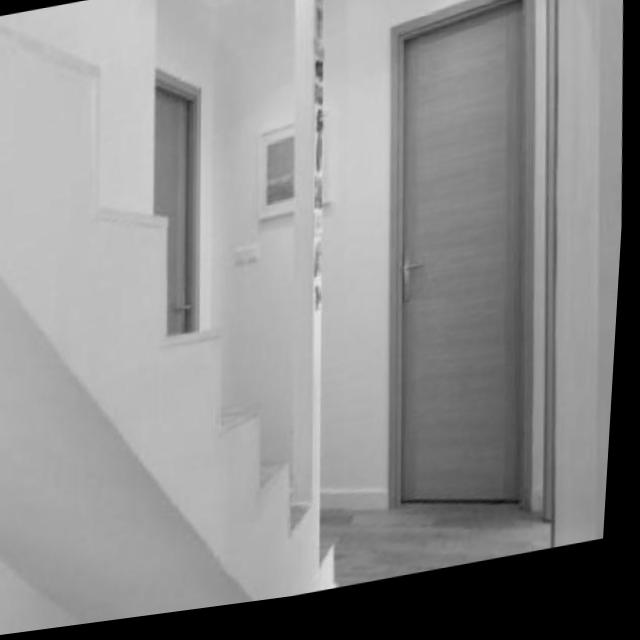door_handle: (400, 268, 442, 293)
